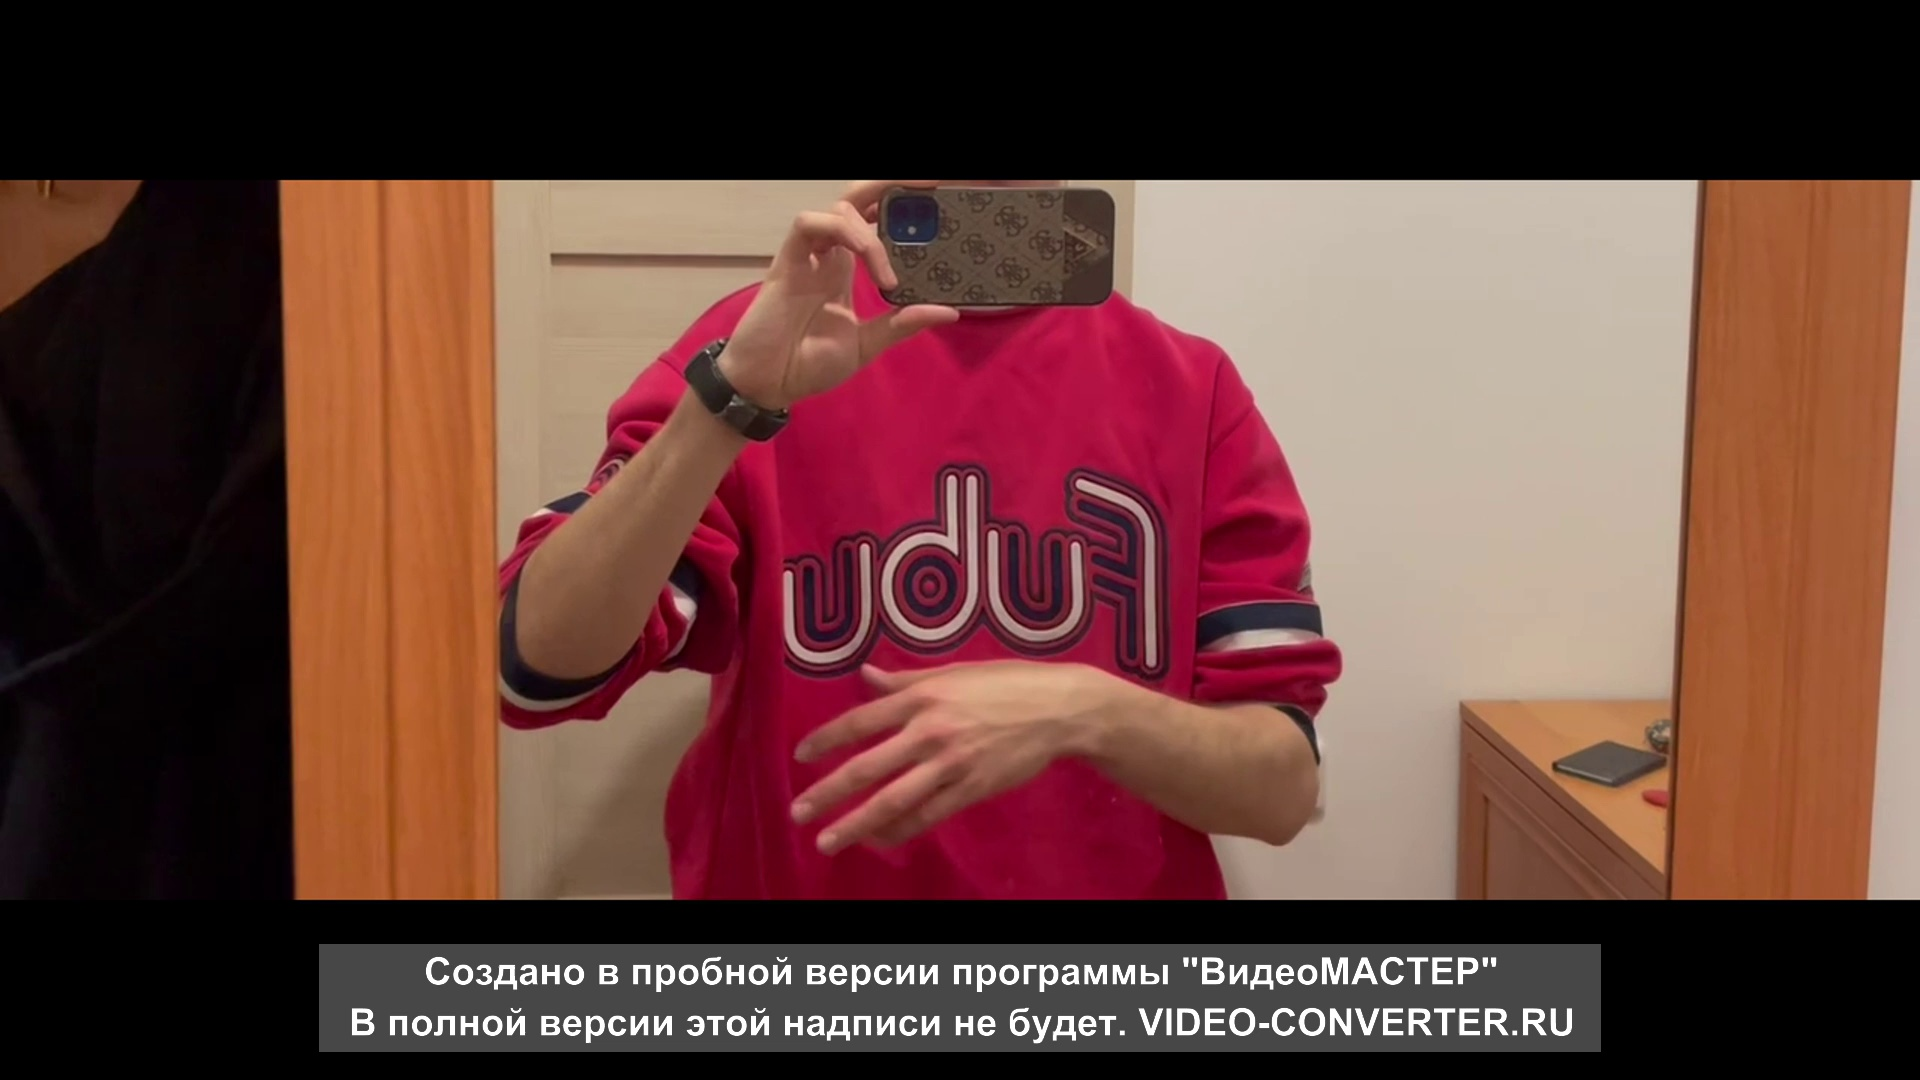Кисть: (789, 657, 1096, 852)
